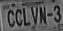3: (52, 3, 61, 23)
C: (6, 8, 16, 29), (15, 7, 23, 27)
L: (23, 6, 31, 26)
N: (39, 3, 47, 23)
V: (31, 4, 39, 24)
